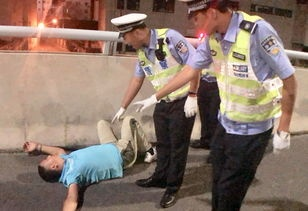falling: (23, 106, 159, 211)
